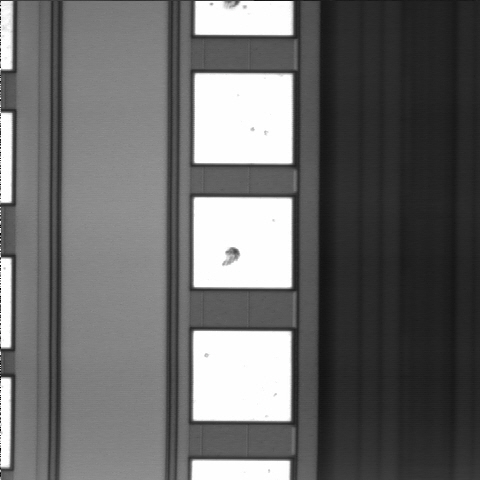pad: (194, 73, 292, 164), (194, 197, 292, 288), (193, 331, 291, 421)
